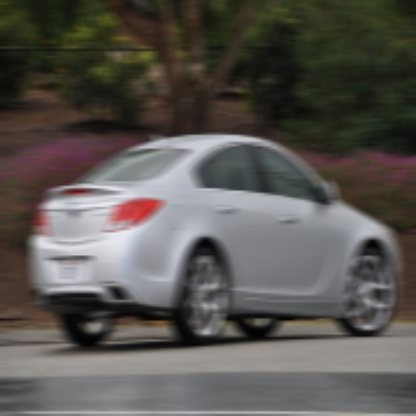Vehicle: (33, 133, 401, 347)
